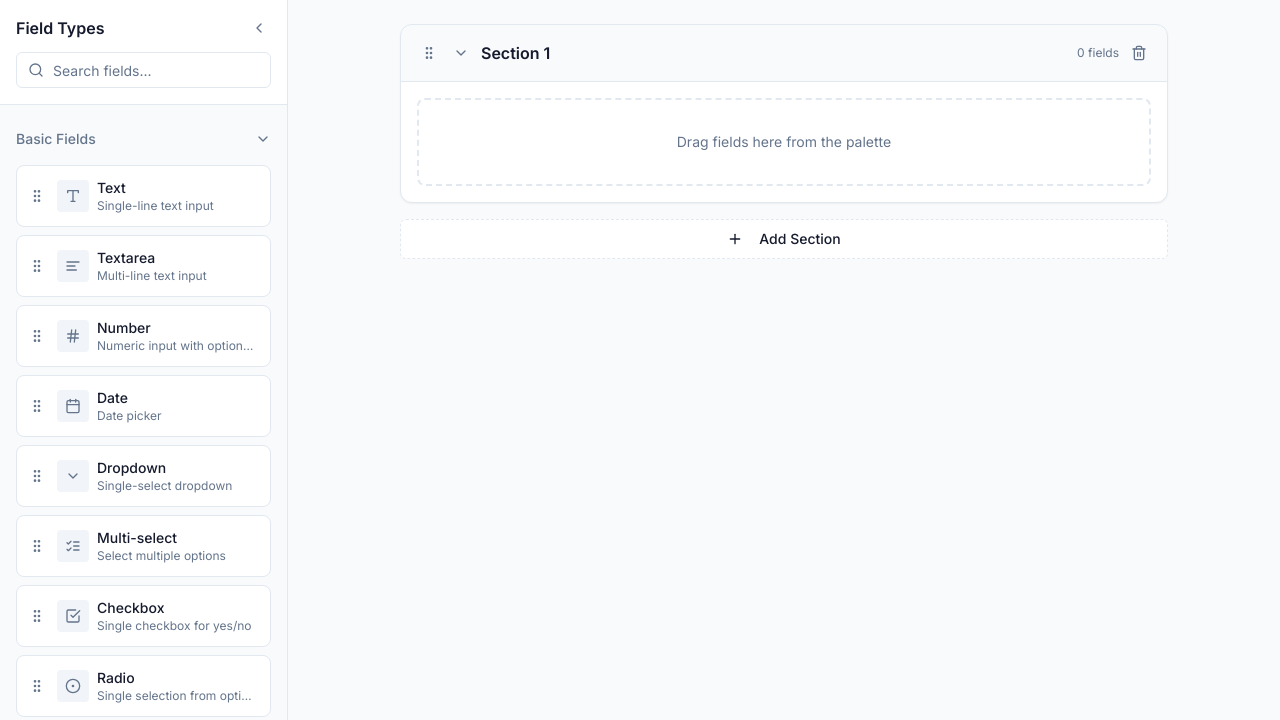
Test: FormBuilder › section management › should add new section when clicking add section button
The width and height of the screenshot is (1280, 720).
Click the button "Add Section": (784, 239) x1=400 y1=219 x2=1168 y2=259
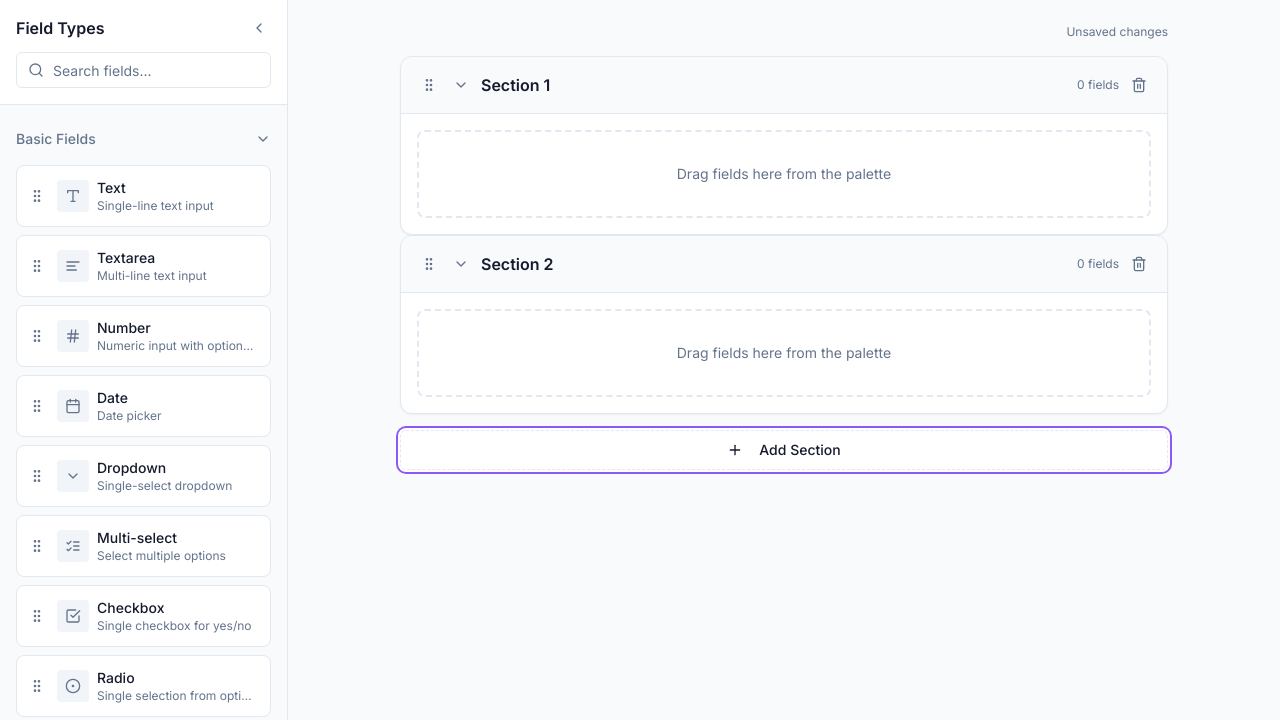
Result: the text "Section 2" is shown at x1=481 y1=252 x2=554 y2=276
